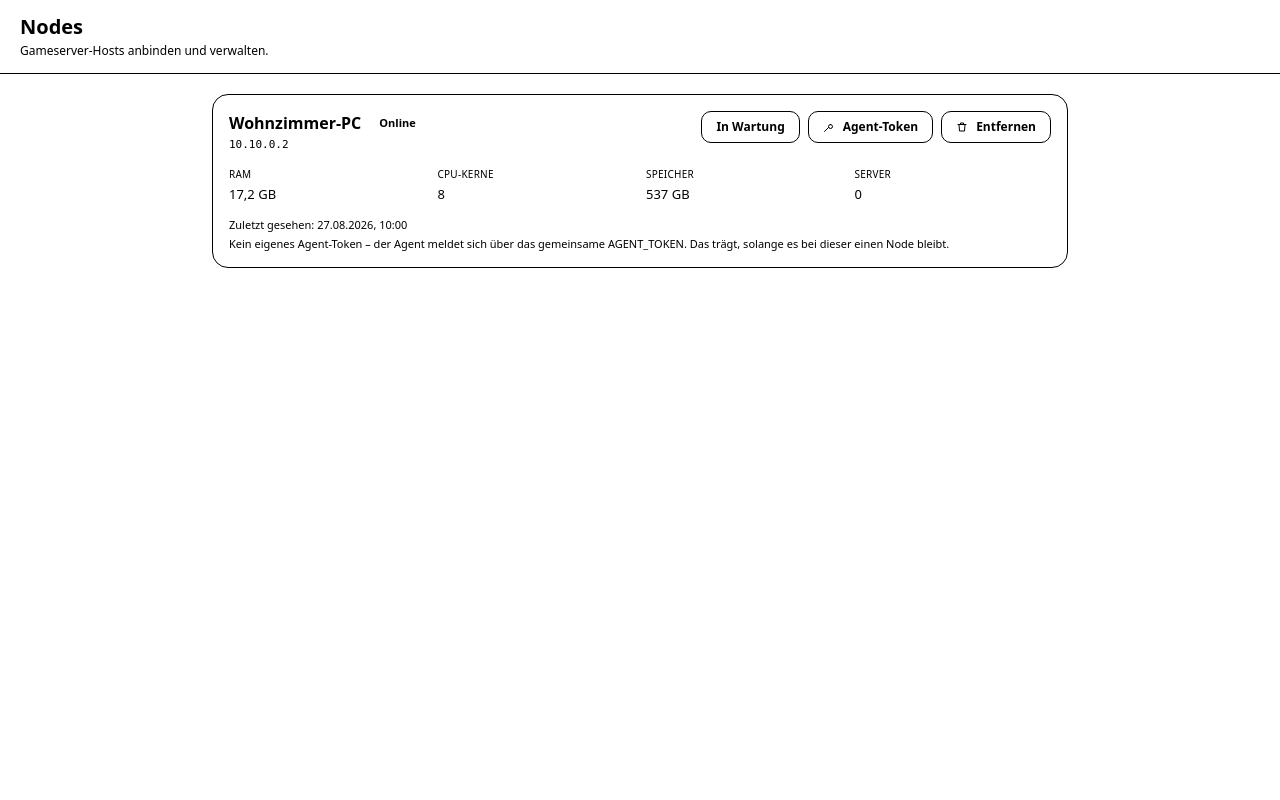
it: NodesAdminView – Wartungsschalter › schickt beim Beginn der Wartung { maintenance: true }
Expected: the heading "Wohnzimmer-PC" is shown, [229, 112, 361, 134]
Click the button "In Wartung" at (751, 127), box [701, 111, 800, 143]
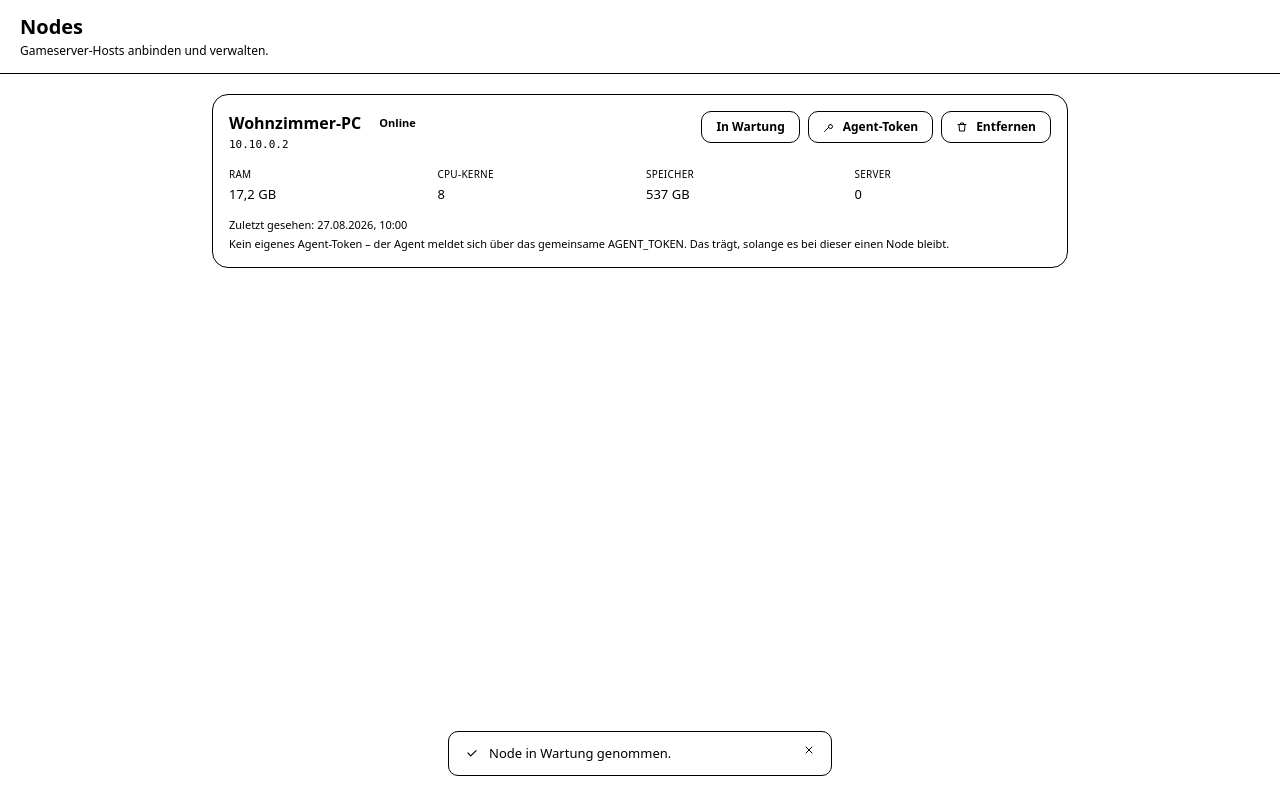
Expected: the text "Node in Wartung genommen." is shown, [489, 744, 671, 762]
